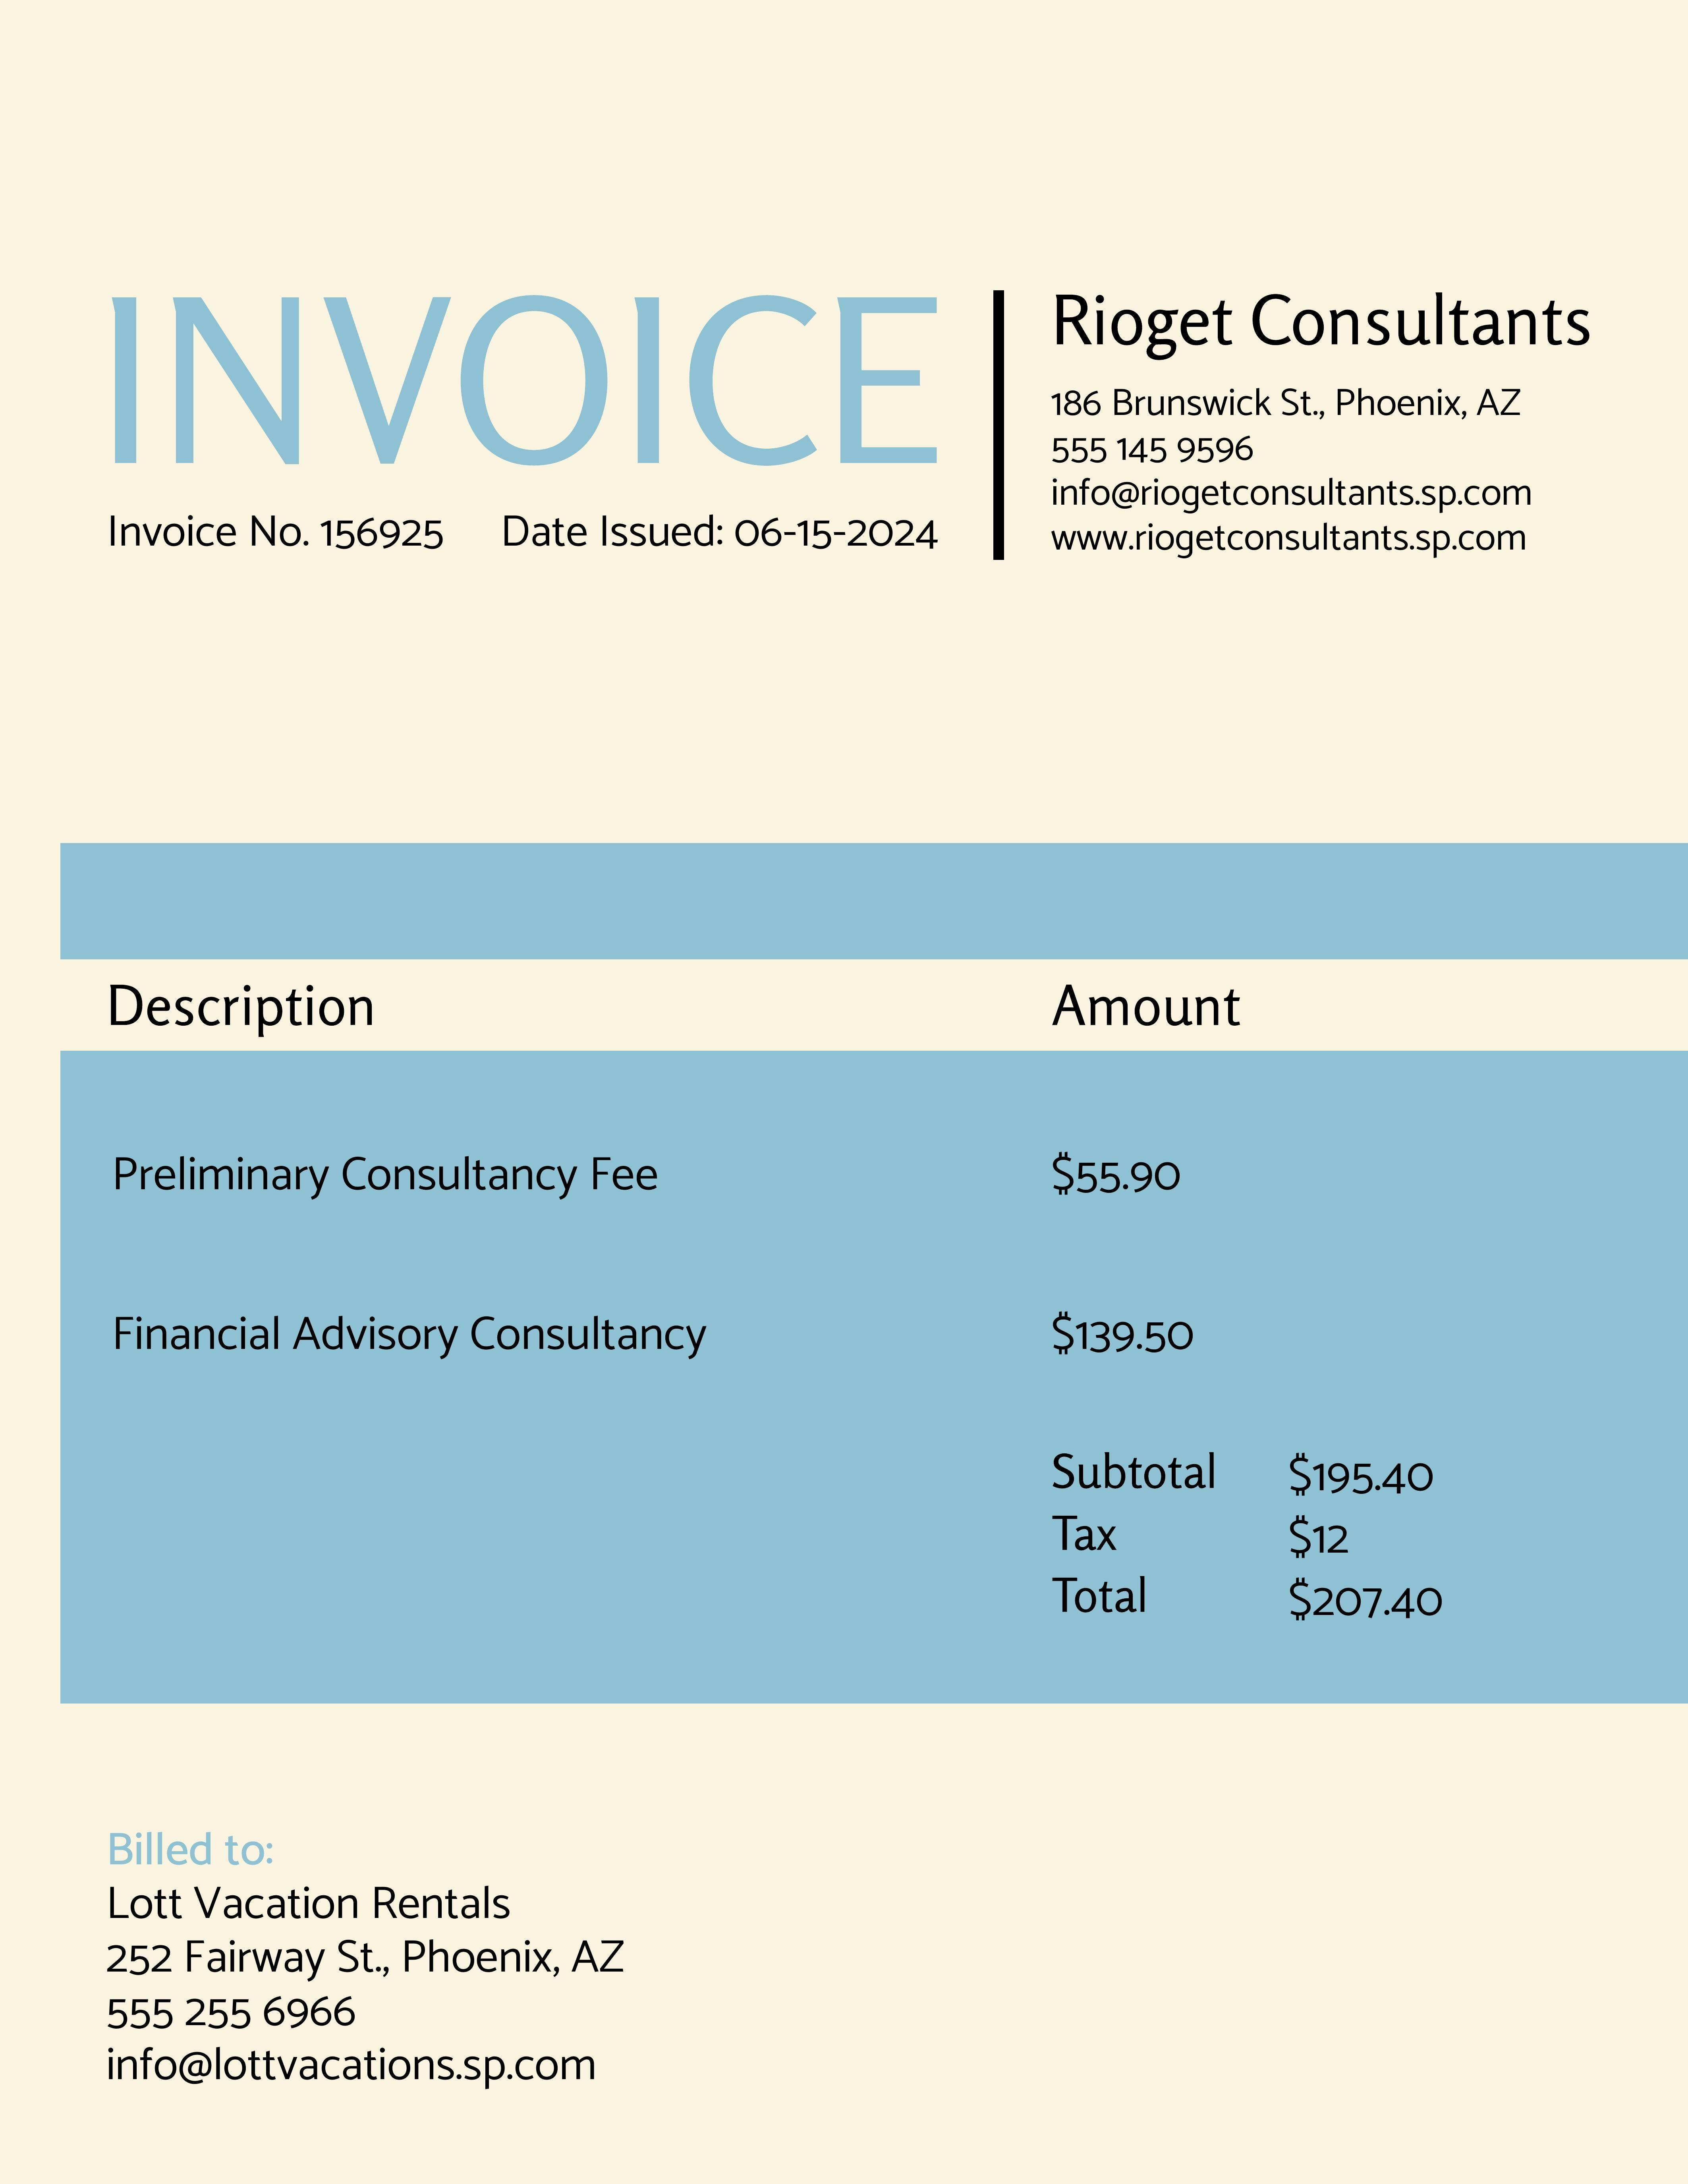ROI: (87, 961, 1477, 1643), (95, 1819, 654, 2109), (1037, 282, 1604, 567), (91, 504, 954, 560)
